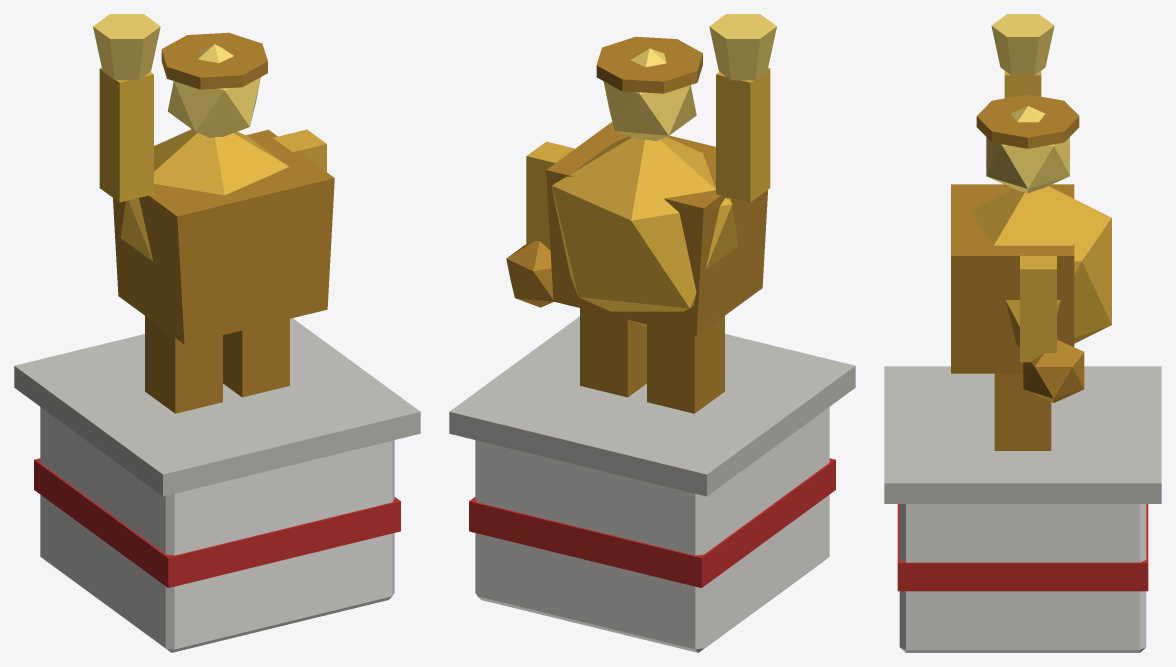
File: PR_PatronStatue.fbx
3 renders of one model, left to right at view 1: azimuth 30°, elevation 25°; view 2: azimuth 150°, elevation 25°; view 3: azimuth 270°, elevation 25°, orthographic. The views are drawn at different scales.
Parts seen in each view (by area): view 1: PR_PatronStatue; view 2: PR_PatronStatue; view 3: PR_PatronStatue.
Boxes of the visible parts, bbox=[...] form: PR_PatronStatue: bbox=[14, 14, 420, 652]; PR_PatronStatue: bbox=[449, 14, 855, 652]; PR_PatronStatue: bbox=[884, 14, 1161, 652].
Bounding box in the file's own units: 2.7 × 2.7 × 5.77.
